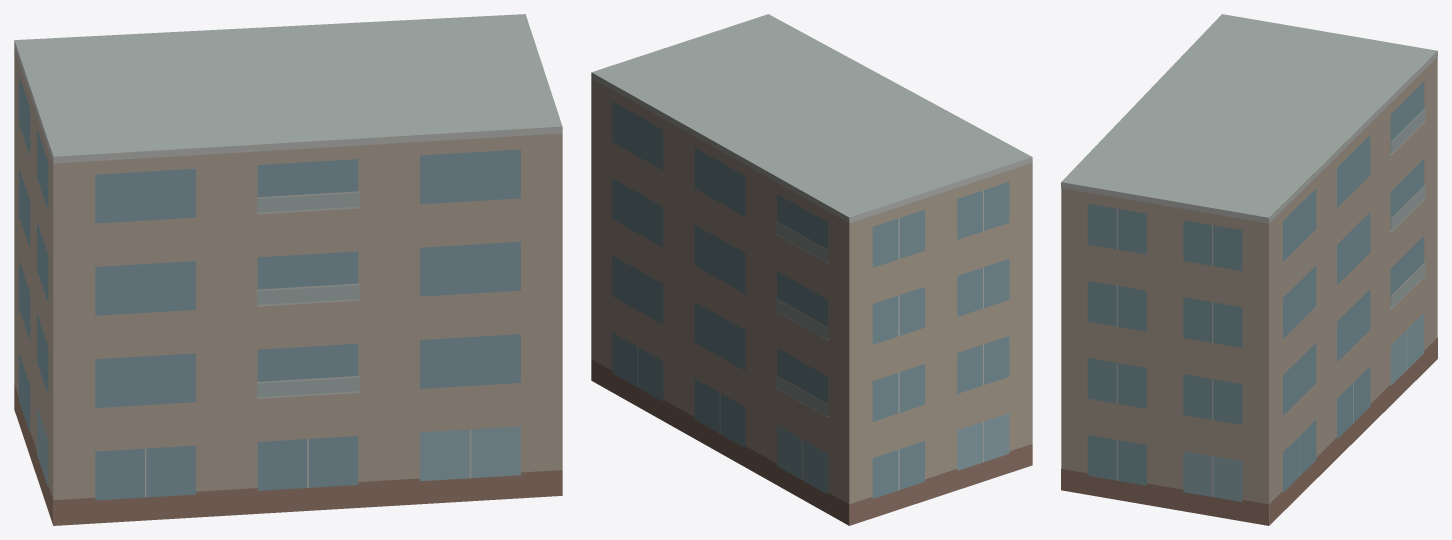
The model's file is survey-upis-32502102.glb.
3 renders of one model, left to right at view 1: azimuth 30°, elevation 25°; view 2: azimuth 150°, elevation 25°; view 3: azimuth 270°, elevation 25°, orthographic. The views are drawn at different scales.
Parts seen in each view (by area): view 1: survey-upis-32502102.tmp; view 2: survey-upis-32502102.tmp; view 3: survey-upis-32502102.tmp.
Boxes of the visible parts, left/top/right/bottom form: survey-upis-32502102.tmp: left=14, top=14, right=562, bottom=525; survey-upis-32502102.tmp: left=591, top=14, right=1032, bottom=525; survey-upis-32502102.tmp: left=1061, top=14, right=1437, bottom=525.
Bounding box in the file's own units: 18.4 × 12.97 × 14.38.
